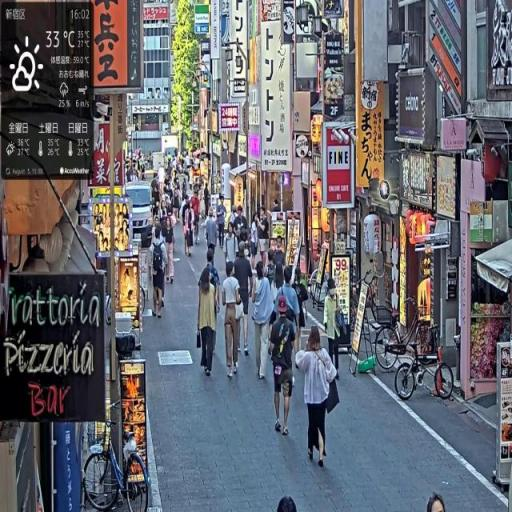person: (293, 326, 341, 471), (270, 294, 299, 439), (249, 259, 276, 384), (220, 263, 245, 378), (198, 259, 221, 382), (234, 241, 255, 363), (322, 277, 344, 387), (275, 265, 301, 351), (290, 269, 310, 355), (151, 227, 168, 320), (163, 214, 178, 286), (225, 220, 239, 280), (258, 207, 271, 270), (206, 209, 220, 265), (184, 201, 196, 260), (234, 205, 251, 245), (216, 197, 228, 250)
